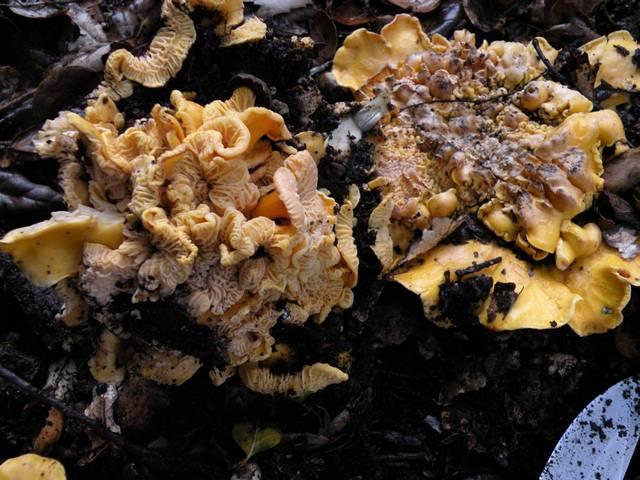edible_mushroom: (0, 77, 359, 369), (329, 12, 640, 334)
